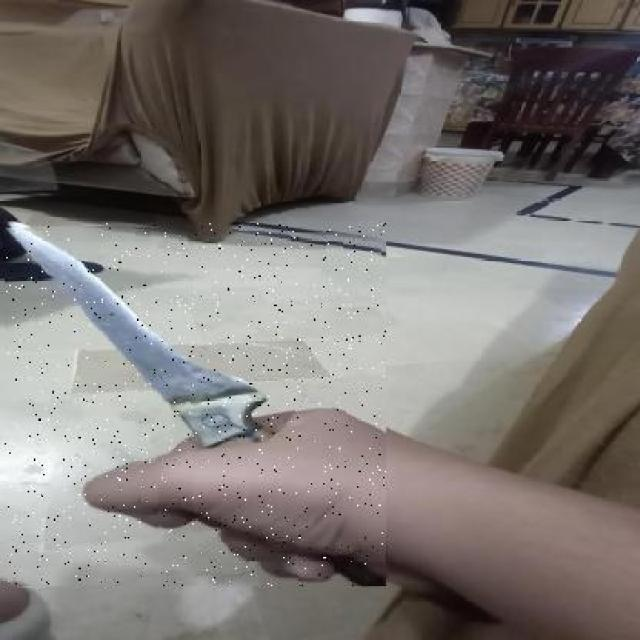knife: (4, 223, 387, 586)
